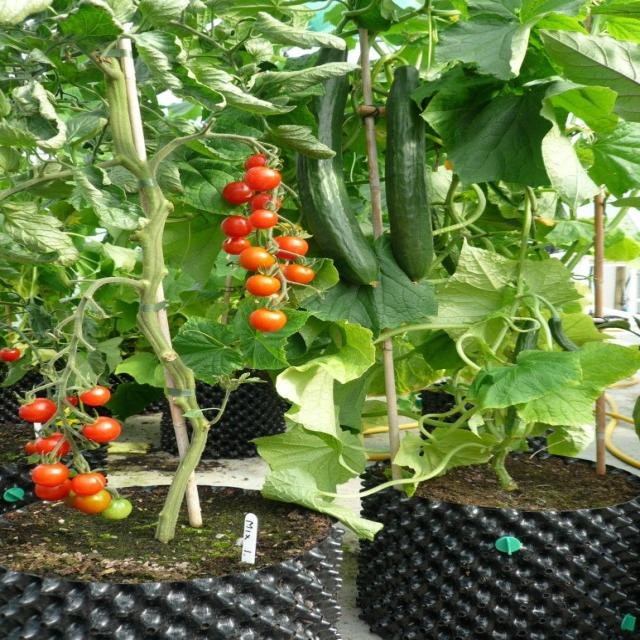level 2: (97, 500, 133, 520)
level 5: (248, 307, 286, 332), (239, 247, 278, 270), (73, 488, 110, 512), (245, 274, 280, 297), (284, 264, 315, 287)
level 6: (82, 415, 122, 443), (31, 462, 71, 487), (36, 477, 73, 502), (18, 398, 56, 422), (34, 432, 70, 456), (245, 167, 281, 191), (70, 473, 106, 495), (275, 236, 307, 260), (79, 385, 113, 406), (224, 182, 254, 204), (222, 216, 252, 237), (241, 156, 275, 174), (248, 210, 278, 230), (252, 194, 280, 215), (24, 440, 50, 457), (222, 237, 248, 254), (0, 346, 20, 362), (62, 396, 80, 410)
